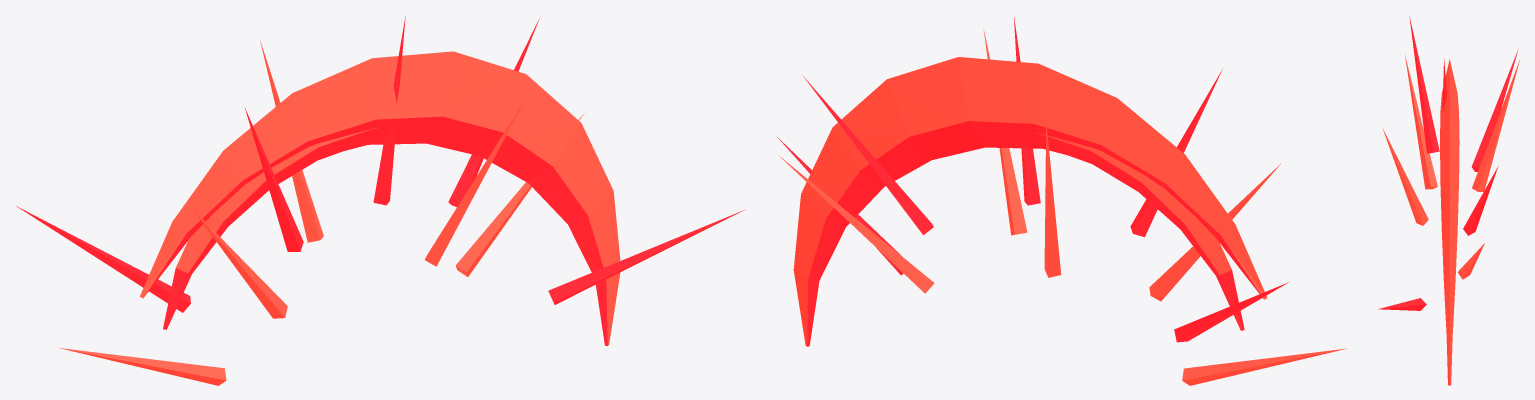
Rendered from vfx_mutant_scythe_stalker.glb.
3 renders of one model, left to right at view 1: azimuth 30°, elevation 25°; view 2: azimuth 150°, elevation 25°; view 3: azimuth 270°, elevation 25°, orthographic. The views are drawn at different scales.
Parts seen in each view (by area): view 1: VFX_Mutant_Scythe; view 2: VFX_Mutant_Scythe; view 3: VFX_Mutant_Scythe.
Boxes of the visible parts, bbox=[...] form: VFX_Mutant_Scythe: bbox=[15, 16, 745, 385]; VFX_Mutant_Scythe: bbox=[777, 14, 1347, 385]; VFX_Mutant_Scythe: bbox=[1378, 16, 1519, 385].
Size of the model in its own units: 1.22 by 0.7041 by 0.3514.
